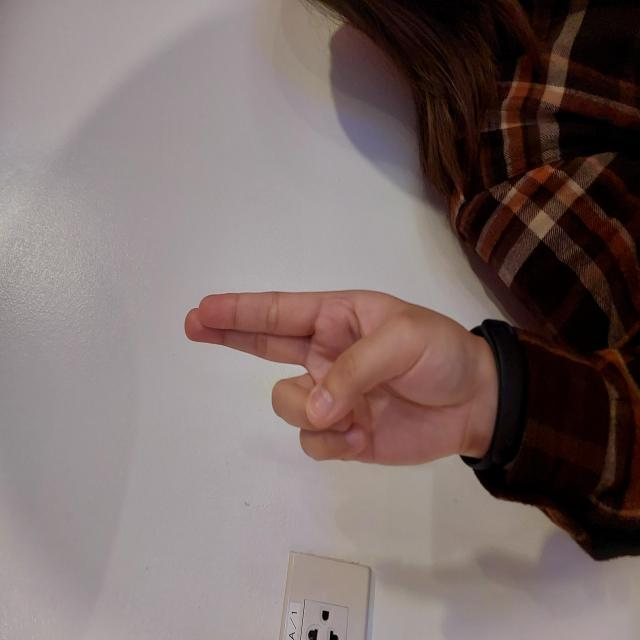U: (170, 182, 356, 482)
